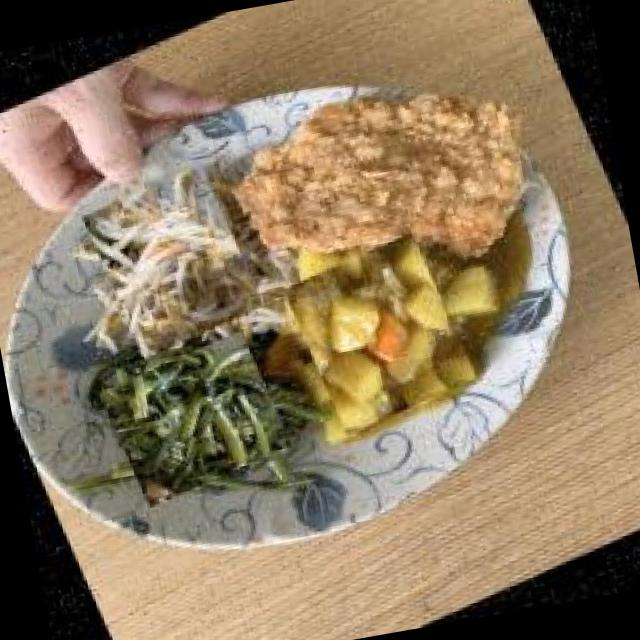curry: (274, 228, 486, 440)
fried_chicken: (214, 30, 558, 314)
mung_bean_sprouts: (71, 161, 272, 361)
water_spinach: (92, 323, 300, 512)
